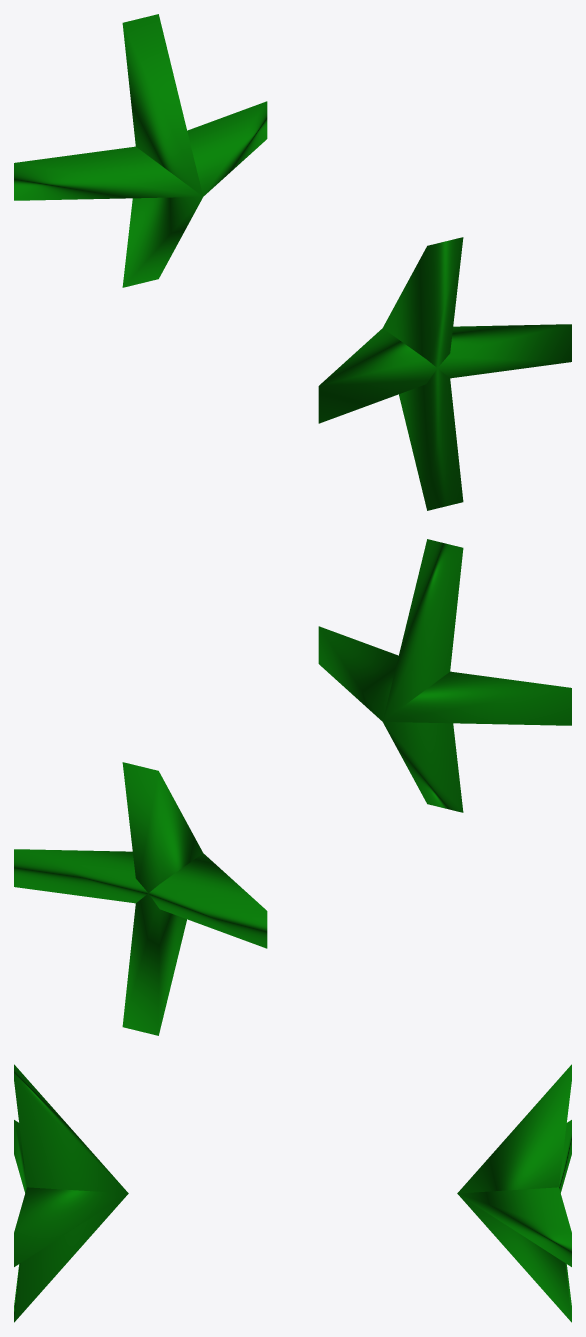
Rendered from Door1.glb.
The picture shows the model from 3 angles, top to bottom: view 1: azimuth 30°, elevation 25°; view 2: azimuth 150°, elevation 25°; view 3: azimuth 270°, elevation 25°; orthographic projection. The views are drawn at different scales.
Parts seen in each view (by area): view 1: Cube.002, Cube.003; view 2: Cube.002, Cube.003; view 3: Cube.002, Cube.003.
Part boxes in pixels (x1=…): Cube.002: x1=14, y1=14, x2=267, y2=287; Cube.003: x1=318, y1=237, x2=571, y2=510; Cube.002: x1=14, y1=762, x2=267, y2=1035; Cube.003: x1=318, y1=539, x2=571, y2=812; Cube.002: x1=457, y1=1064, x2=571, y2=1322; Cube.003: x1=14, y1=1064, x2=128, y2=1322.
Size of the model in its own units: 3.5 by 3.5 by 7.29.
